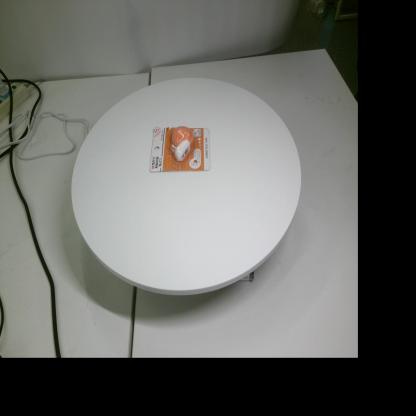Stationery: (150, 126, 210, 172)
